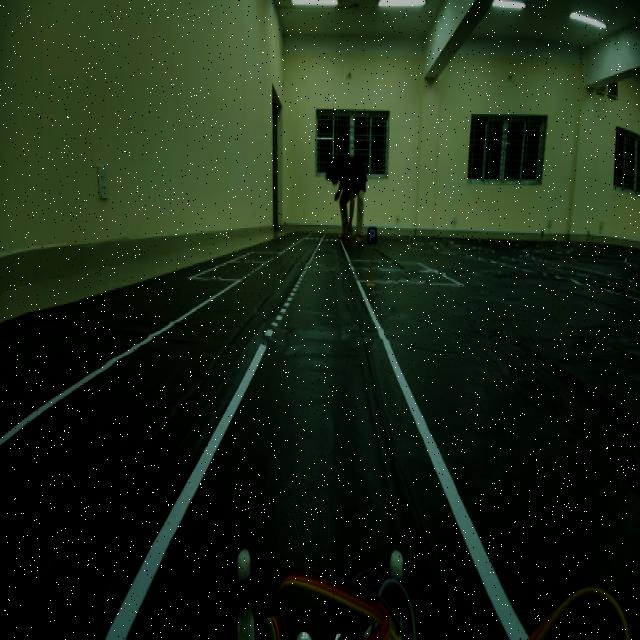parking: (364, 215, 382, 252)
